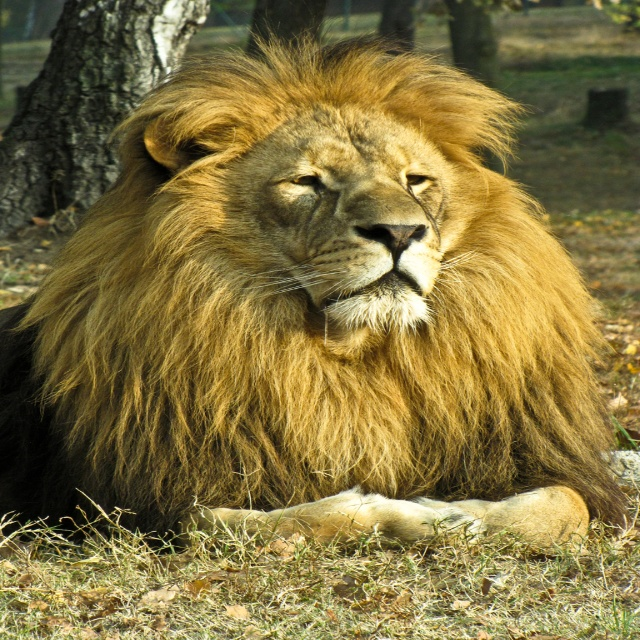Lion: (0, 0, 640, 560)
